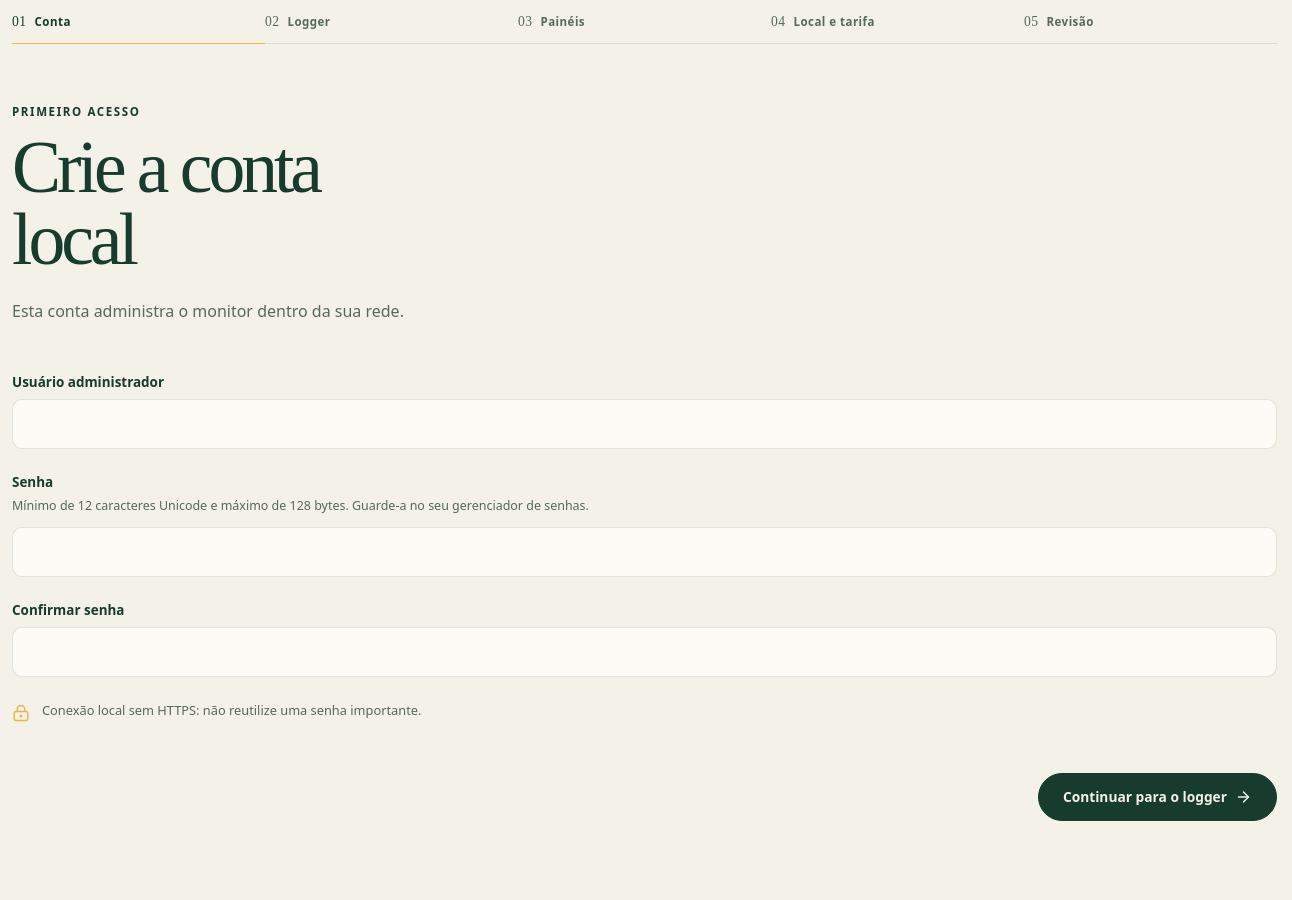
Test: OnboardingWizard › bloqueia senhas diferentes e move foco para o primeiro erro
Type "Admin" into the field labelled "Usuário administrador" at (644, 424), box 12,399 -> 1277,449
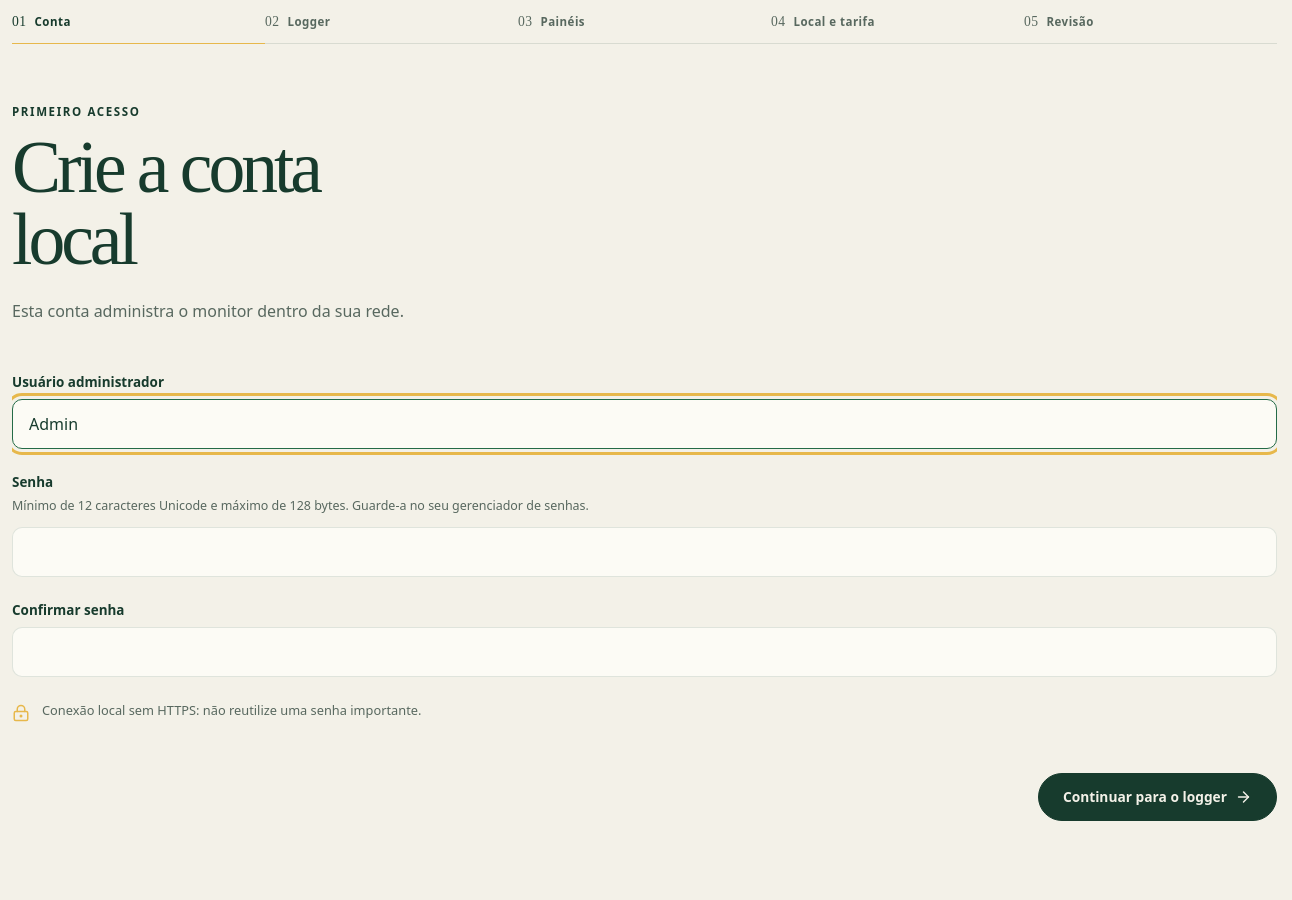
Type "uma senha local segura" into the password field labelled "Senha" at (644, 552), box 12,527 -> 1277,577
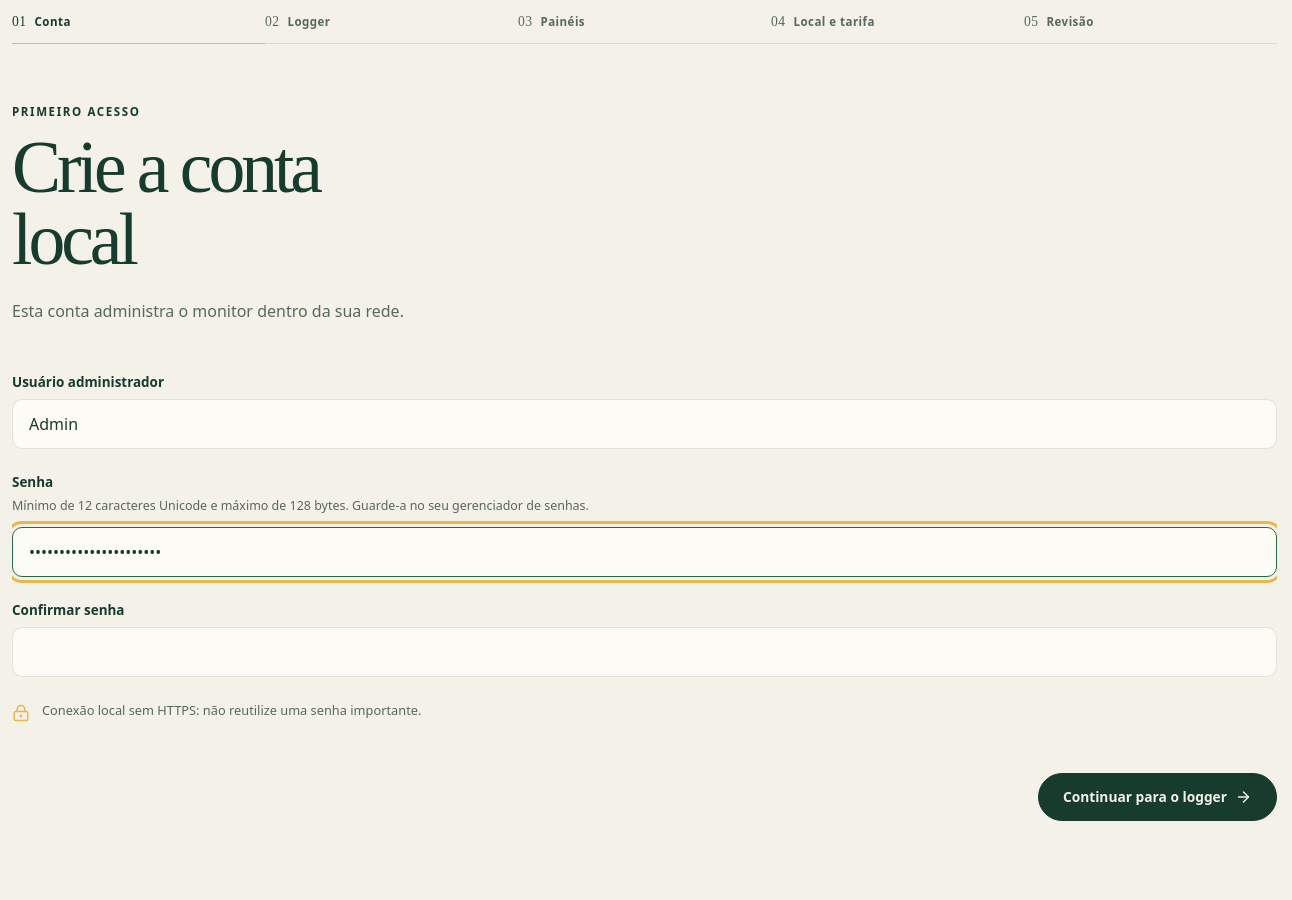
Type "outra senha local segura" into the password field labelled "Confirmar senha" at (644, 652), box 12,627 -> 1277,677
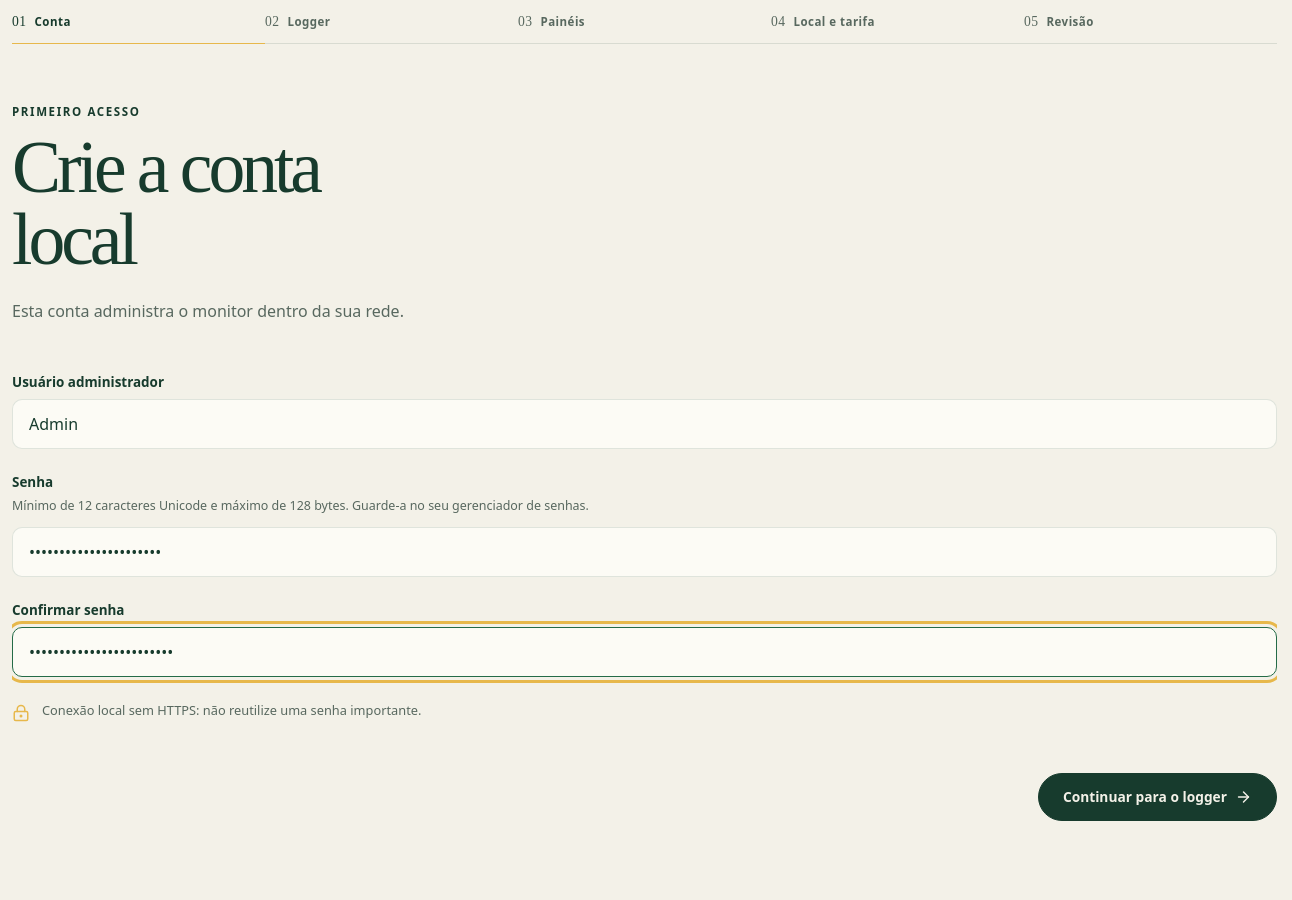
Click the button "Continuar para o logger" at (1157, 797), box 1038,773 -> 1277,821
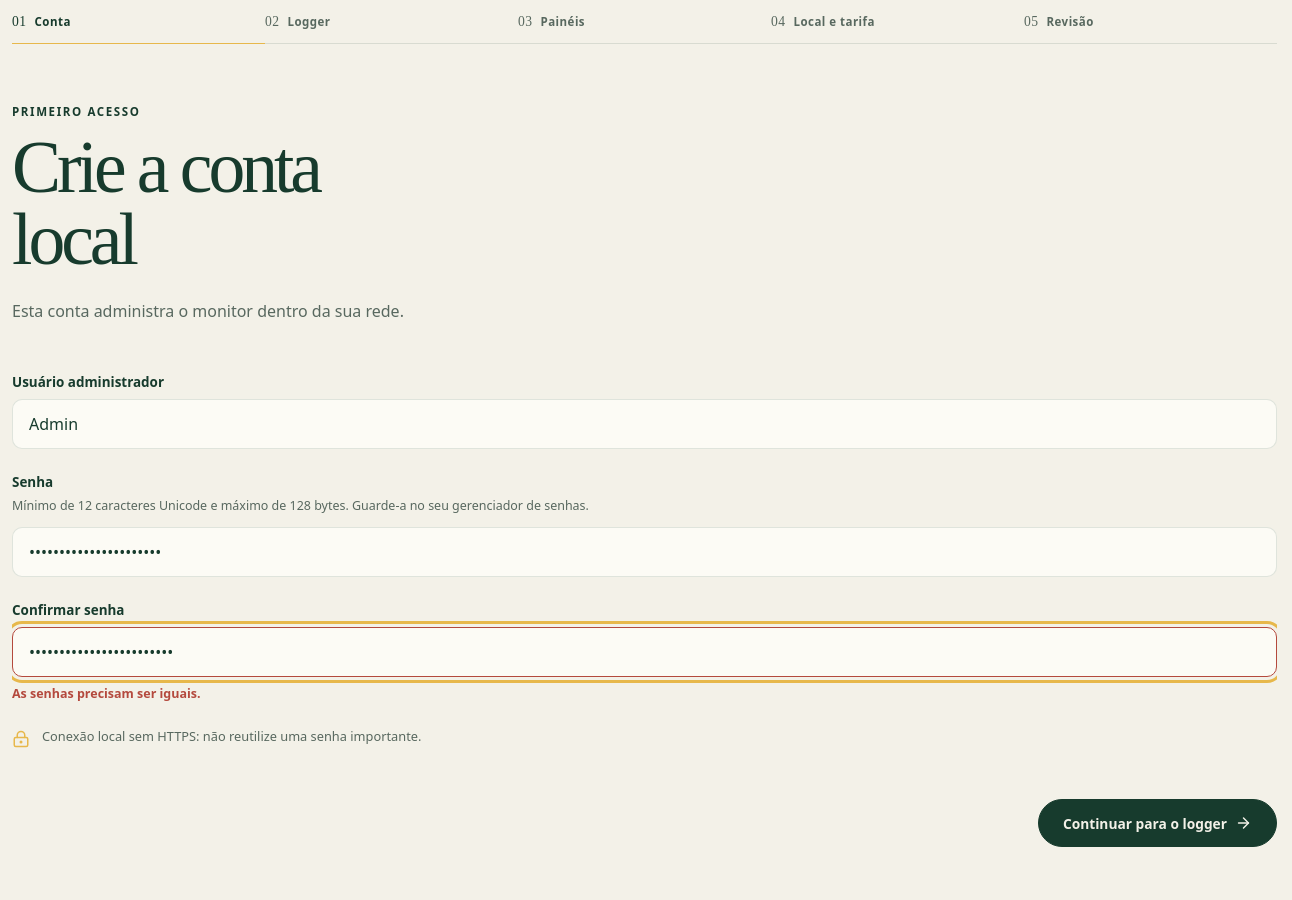
Now the text "As senhas precisam ser iguais." is shown, box 12,685 -> 200,702
